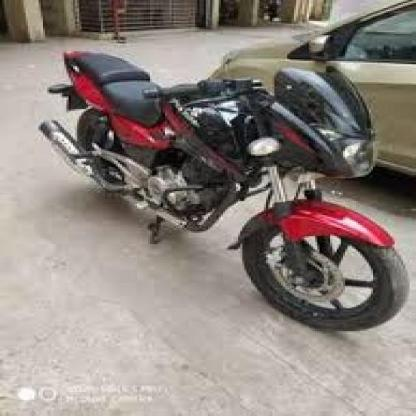bike: (39, 51, 410, 332)
